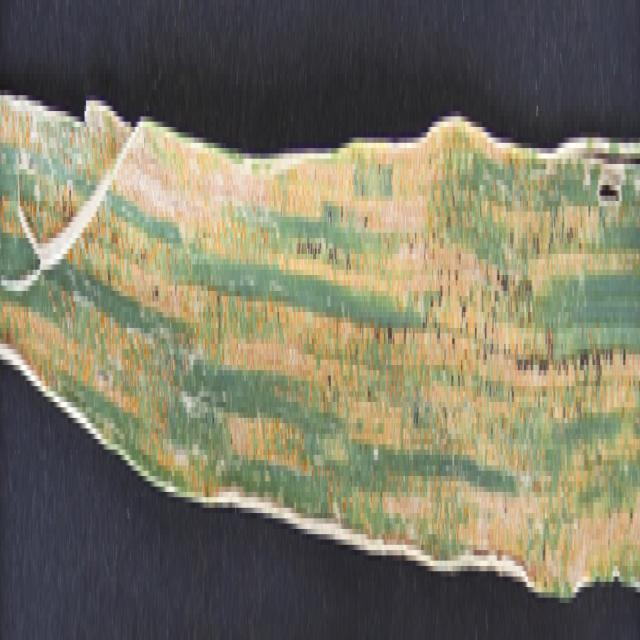leaf rust: (1, 26, 637, 576)
